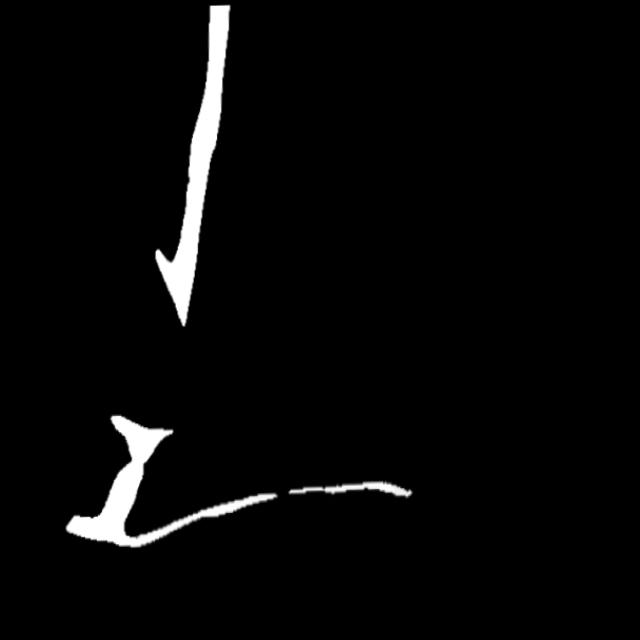sup: (270, 481, 302, 506)
